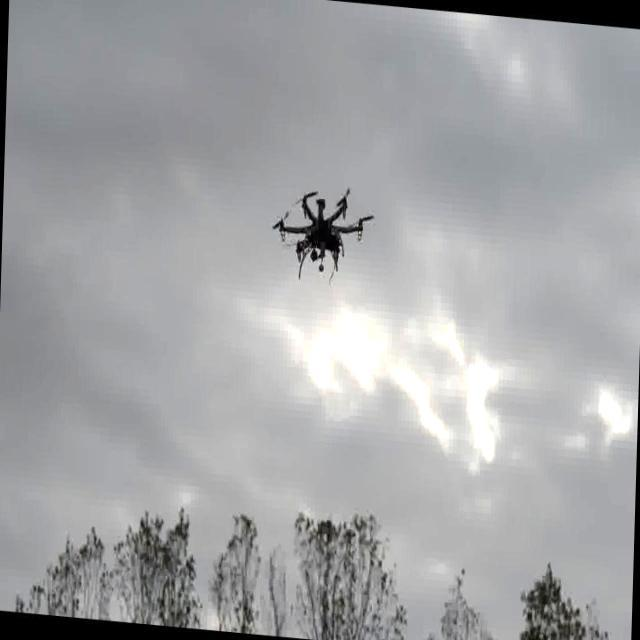drone: (270, 172, 370, 280)
